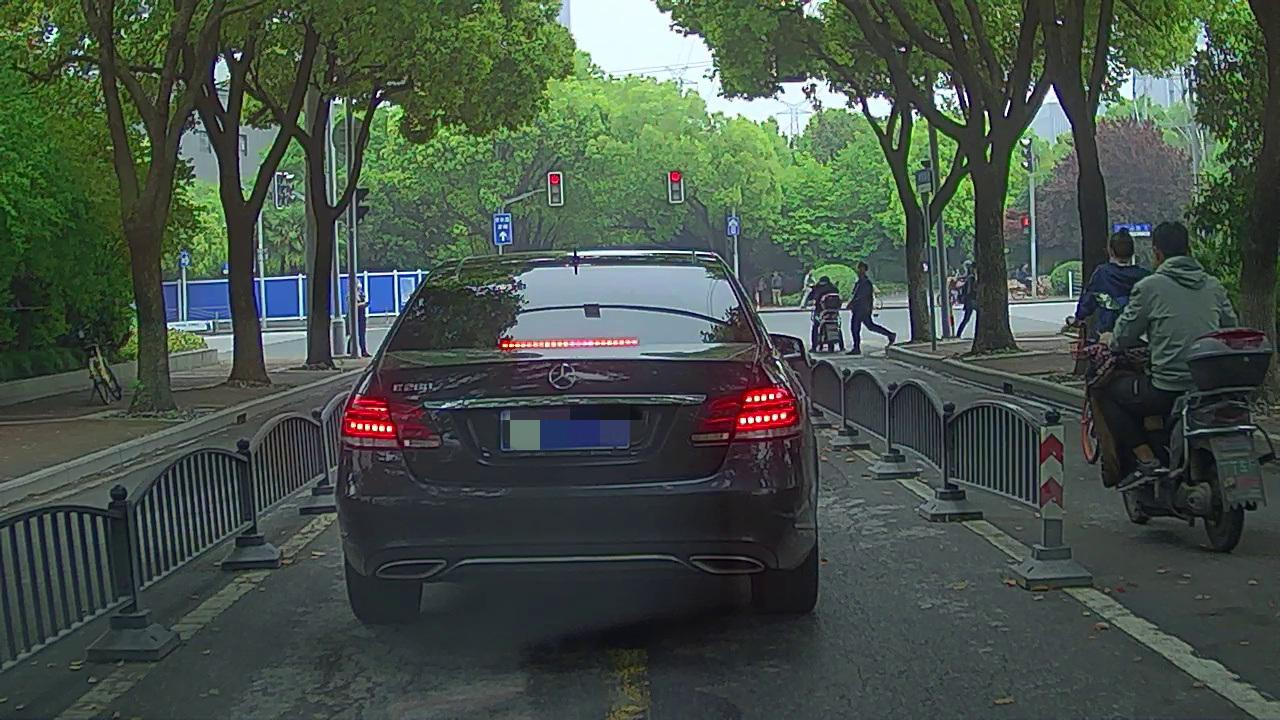traffic_light: (549, 174, 562, 204), (670, 170, 681, 201)
